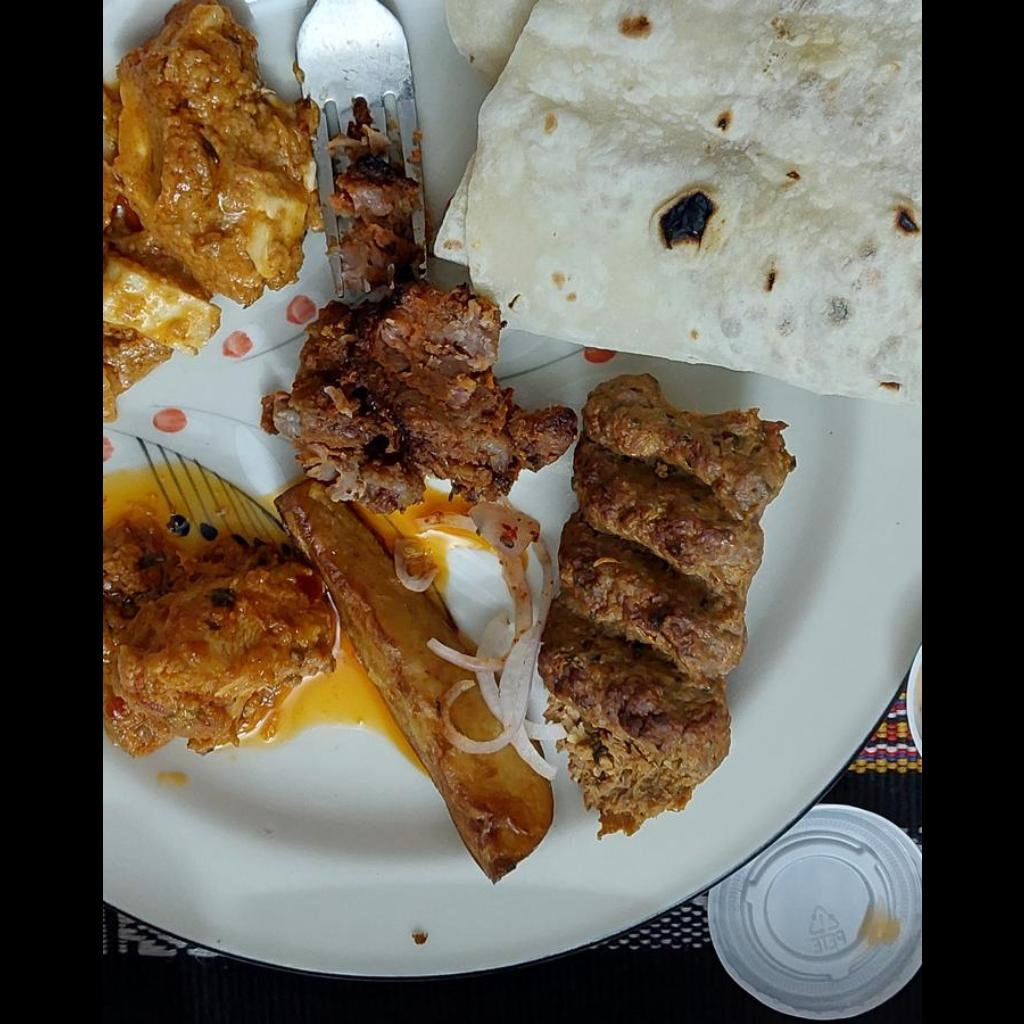chicken: (121, 7, 570, 508), (102, 493, 332, 754)
kabab: (547, 375, 795, 834)
potato: (276, 479, 551, 880)
ruti: (428, 0, 920, 412)
